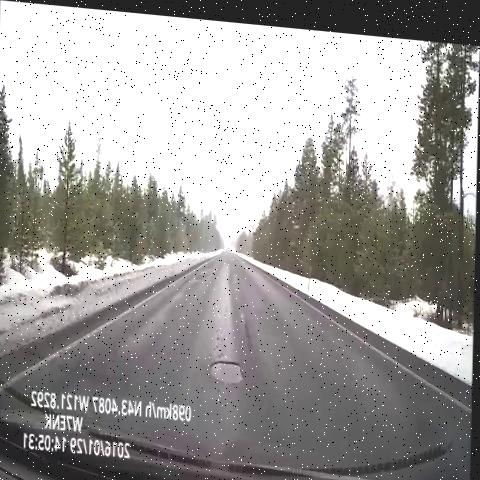pothole: (205, 343, 250, 391)
